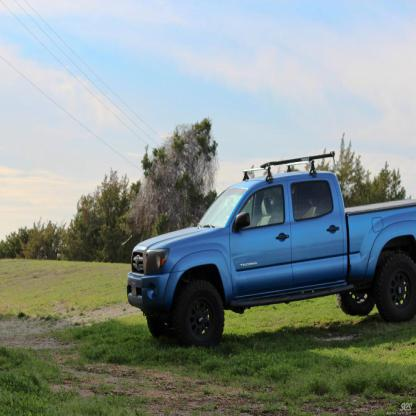Truck: (126, 149, 415, 348)
